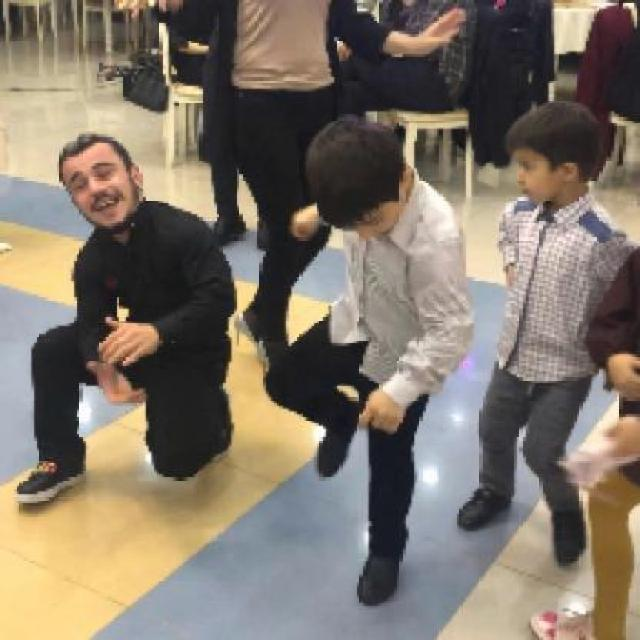child: (458, 97, 638, 569)
